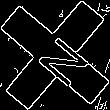N_NW: (23, 23, 87, 87)
